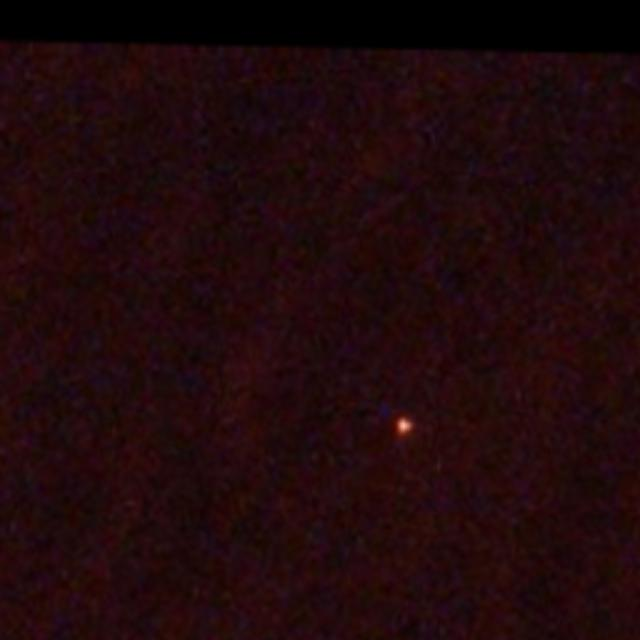Fragment: (396, 412, 416, 442)
